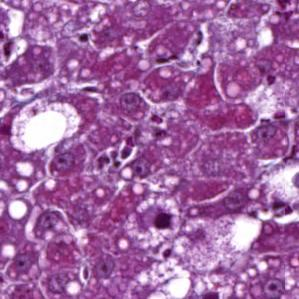ballooning: (9, 97, 83, 155)
